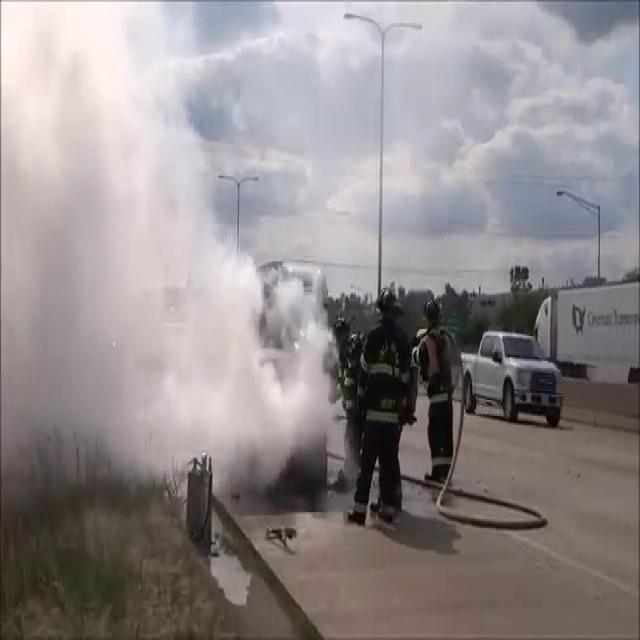Smoke: (1, 7, 346, 505)
